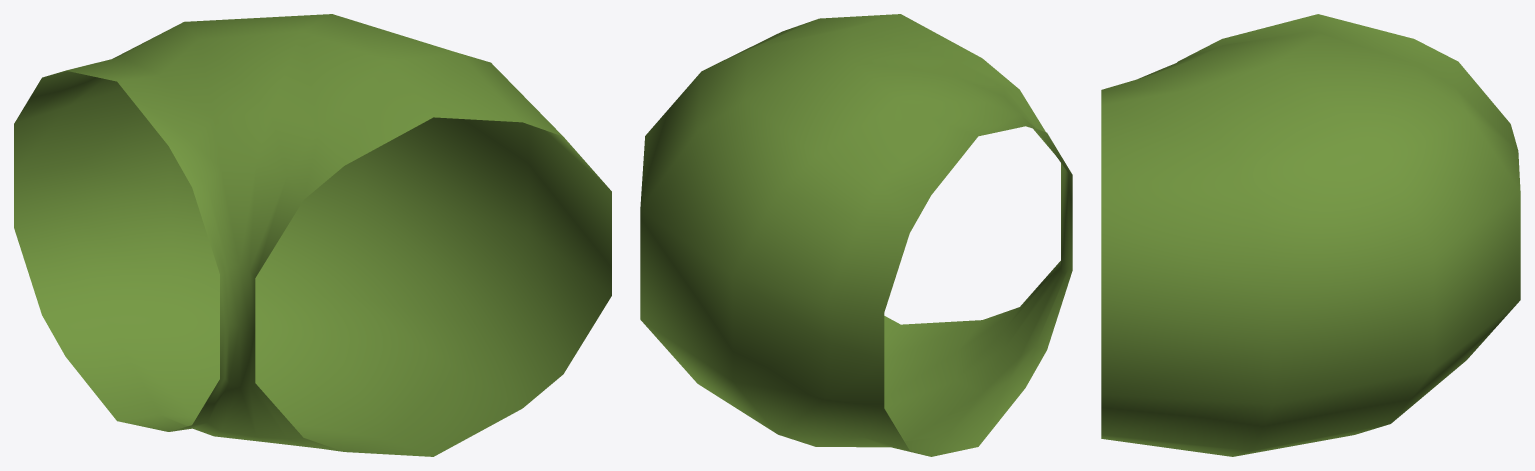
File: turn_left_fat_low.fbx
The picture shows the model from 3 angles, left to right: view 1: azimuth 30°, elevation 25°; view 2: azimuth 150°, elevation 25°; view 3: azimuth 270°, elevation 25°; orthographic projection. The views are drawn at different scales.
Visible parts, largest first — view 1: turn_fat_left; view 2: turn_fat_left; view 3: turn_fat_left.
Part boxes in pixels (x1=…): turn_fat_left: x1=14, y1=14, x2=611, y2=456; turn_fat_left: x1=640, y1=14, x2=1072, y2=456; turn_fat_left: x1=1101, y1=14, x2=1520, y2=456.
Size of the model in its own units: 96.7 by 93.67 by 96.7.
Materials: 1 (1 with a texture image).
